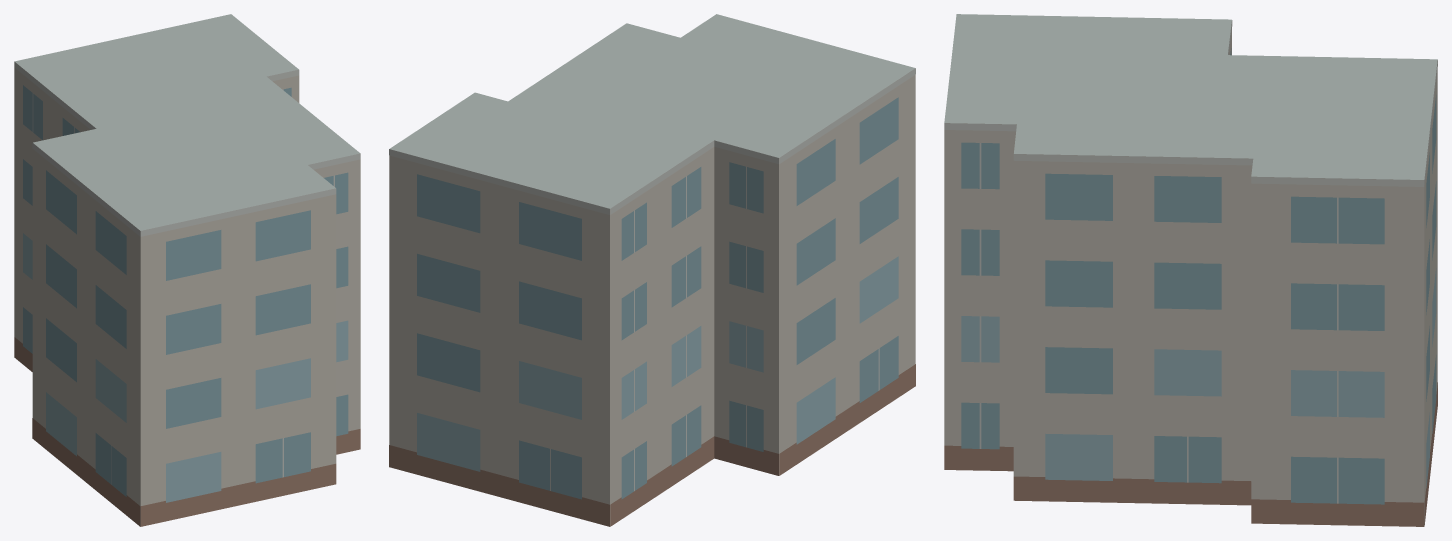
Rendered from residential-28a292da-1498-4ef3-93f3-981238a0b4a0.glb.
The picture shows the model from 3 angles, left to right: view 1: azimuth 30°, elevation 25°; view 2: azimuth 150°, elevation 25°; view 3: azimuth 270°, elevation 25°; orthographic projection. The views are drawn at different scales.
Visible parts, largest first — view 1: residential-28a292da-1498-4ef3-93f3-981238a0b4a0.tmp; view 2: residential-28a292da-1498-4ef3-93f3-981238a0b4a0.tmp; view 3: residential-28a292da-1498-4ef3-93f3-981238a0b4a0.tmp.
Part boxes in pixels (bbox=[...]): residential-28a292da-1498-4ef3-93f3-981238a0b4a0.tmp: bbox=[14, 14, 360, 526]; residential-28a292da-1498-4ef3-93f3-981238a0b4a0.tmp: bbox=[389, 14, 915, 526]; residential-28a292da-1498-4ef3-93f3-981238a0b4a0.tmp: bbox=[944, 14, 1437, 526].
Bounding box in the file's own units: 12.54 × 12.2 × 15.74.
